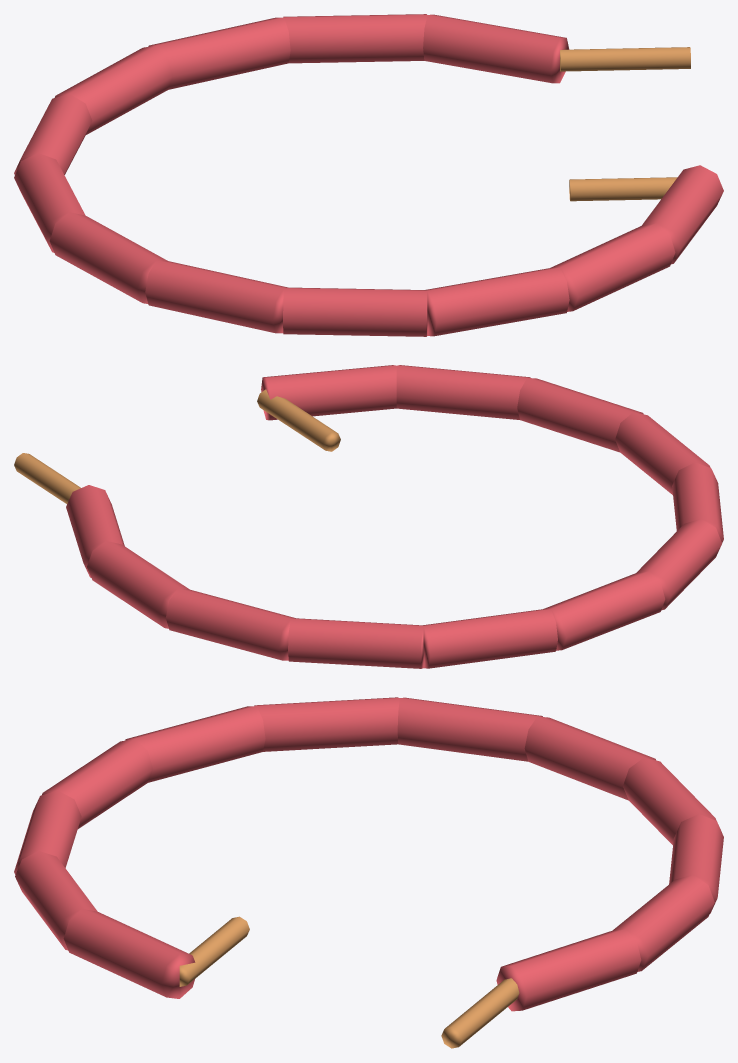
File: copper-wire.glb
The picture shows the model from 3 angles, top to bottom: view 1: azimuth 30°, elevation 25°; view 2: azimuth 150°, elevation 25°; view 3: azimuth 270°, elevation 25°; orthographic projection. The views are drawn at different scales.
Parts seen in each view (by area): view 1: Cable de cobre-red, Cable de cobre-copper; view 2: Cable de cobre-red, Cable de cobre-copper; view 3: Cable de cobre-red, Cable de cobre-copper.
Boxes of the visible parts, left/top/right/bottom form: Cable de cobre-red: left=14, top=14, right=723, bottom=336; Cable de cobre-copper: left=560, top=47, right=690, bottom=201; Cable de cobre-red: left=66, top=365, right=723, bottom=668; Cable de cobre-copper: left=14, top=389, right=340, bottom=503; Cable de cobre-red: left=14, top=697, right=723, bottom=1011; Cable de cobre-copper: left=179, top=916, right=519, bottom=1048.
Bounding box in the file's own units: 2.34 × 0.15 × 2.13.
